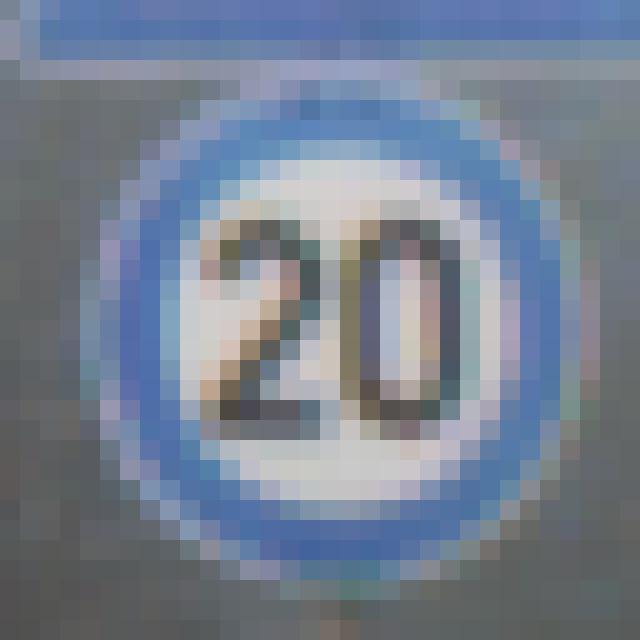SPEED LIMIT 20: (75, 81, 600, 608)
